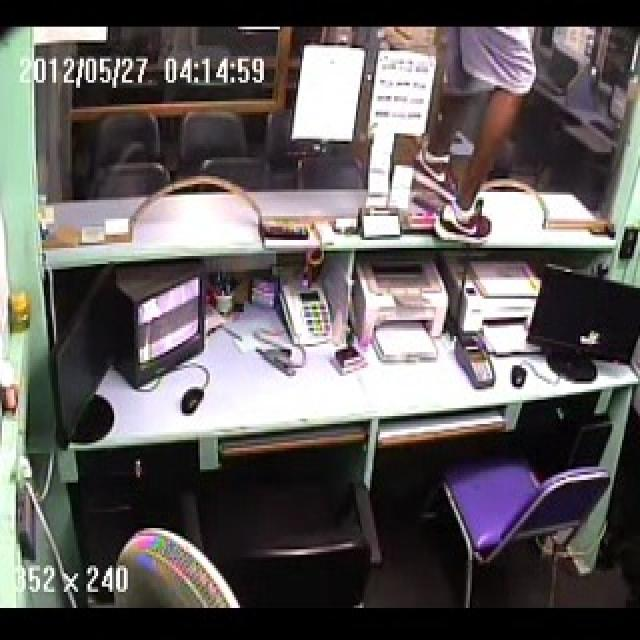thief: (428, 27, 540, 251)
